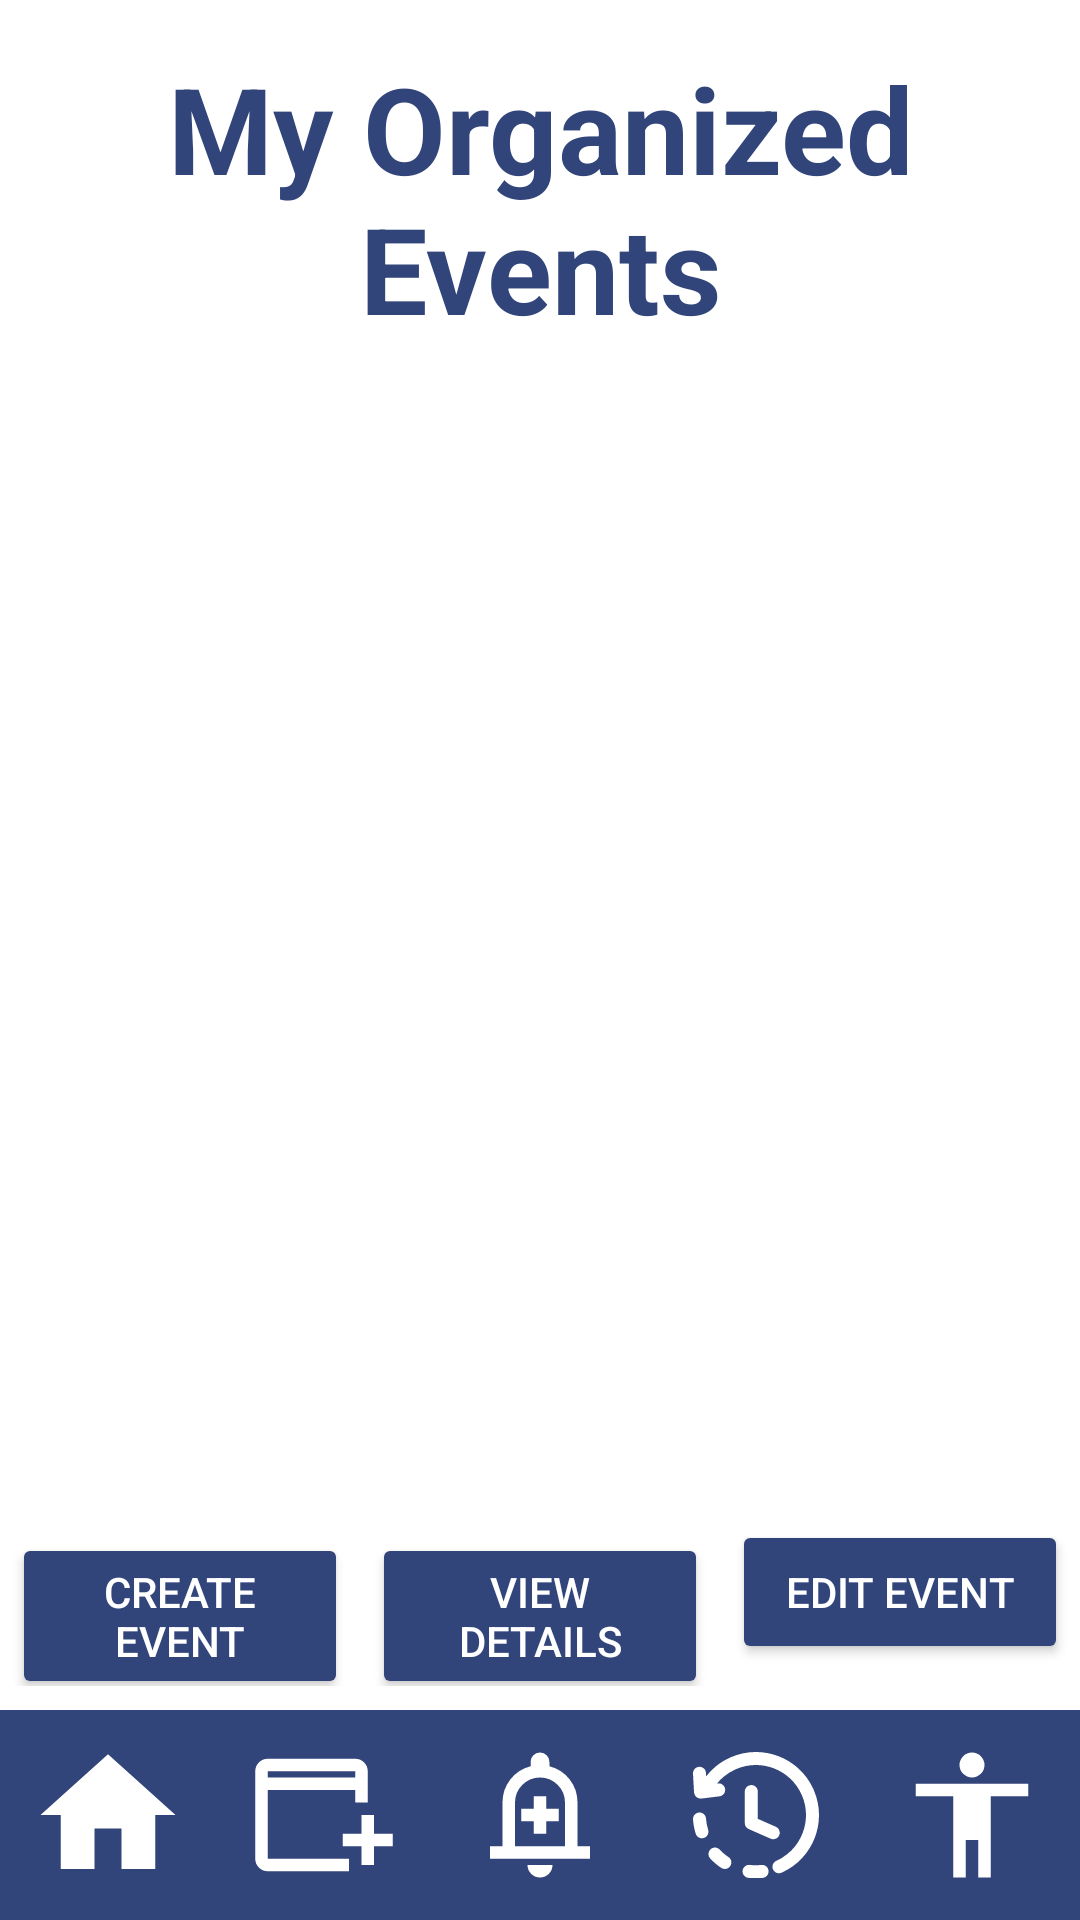

Where icons sit on this 1080 x 1920 app screen, as (x1, y1, x2, y2):
history: (693, 1752, 819, 1878)
home: (41, 1754, 175, 1869)
notification: (490, 1752, 590, 1878)
profile: (915, 1752, 1029, 1878)
